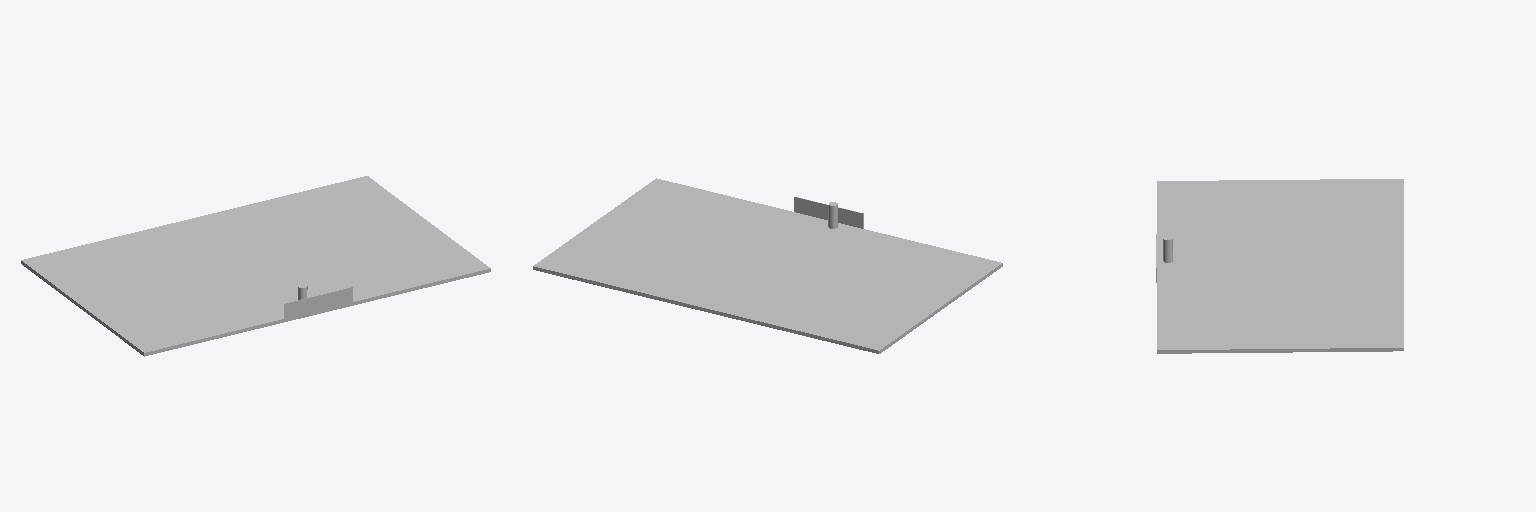
Rendered from floor2.obj.
3 views of the same model, side by side, from view 1: azimuth 30°, elevation 25°; view 2: azimuth 150°, elevation 25°; view 3: azimuth 270°, elevation 25° (orthographic).
Visible parts, largest first — view 1: Cube, Cube.001; view 2: Cube, Cube.001; view 3: Cube.
Boxes of the visible parts, x1=… form: Cube: x1=21, y1=176, x2=490, y2=356; Cube.001: x1=284, y1=287, x2=352, y2=319; Cube: x1=533, y1=178, x2=1002, y2=353; Cube.001: x1=794, y1=197, x2=863, y2=228; Cube: x1=1157, y1=179, x2=1403, y2=353.
Size of the model in its own units: 200 by 14.64 by 123.